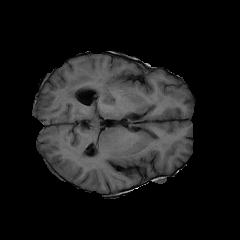glioma: (60, 70, 123, 105)
